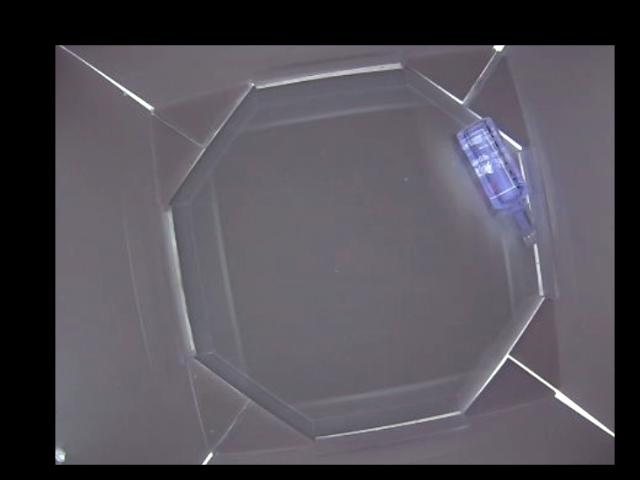Bottle: (455, 118, 537, 245)
